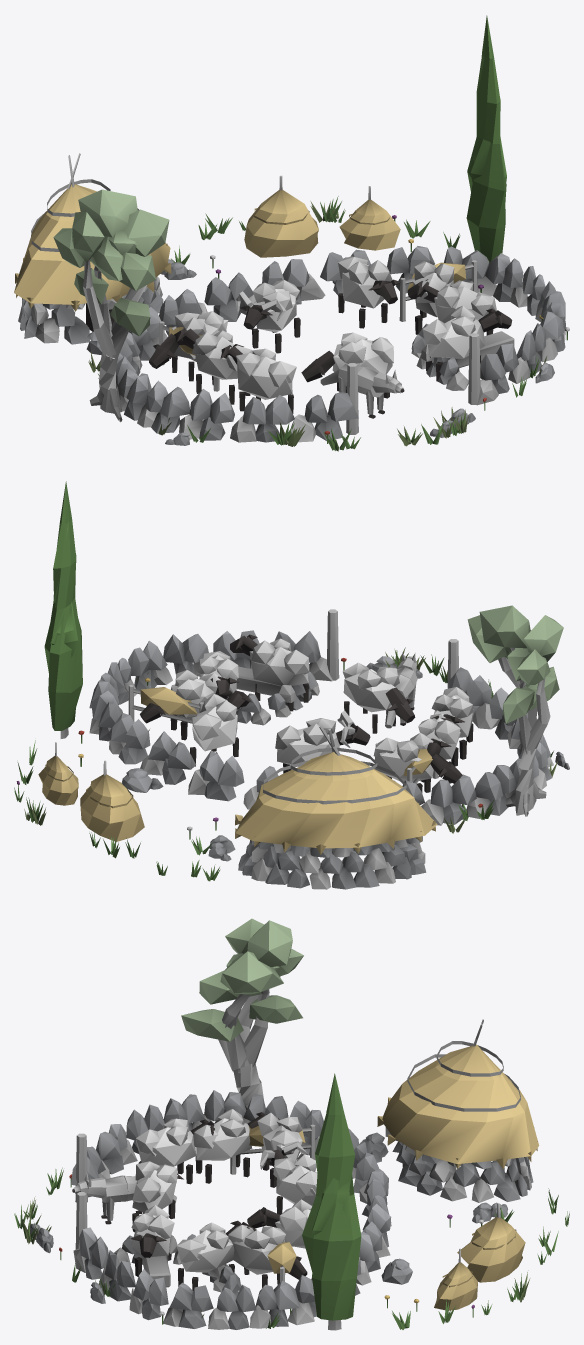
Rendered from sheepfold-l2.glb.
3 renders of one model, top to bottom at view 1: azimuth 30°, elevation 25°; view 2: azimuth 150°, elevation 25°; view 3: azimuth 270°, elevation 25°, orthographic.
Parts seen in each view (by area): view 1: sheepfold-l2; view 2: sheepfold-l2; view 3: sheepfold-l2.
Part boxes in pixels (left/top/right/bottom): sheepfold-l2: left=14, top=15, right=569, bottom=451; sheepfold-l2: left=14, top=481, right=569, bottom=889; sheepfold-l2: left=14, top=918, right=569, bottom=1330.
Size of the model in its own units: 1.58 by 0.845 by 1.65.
